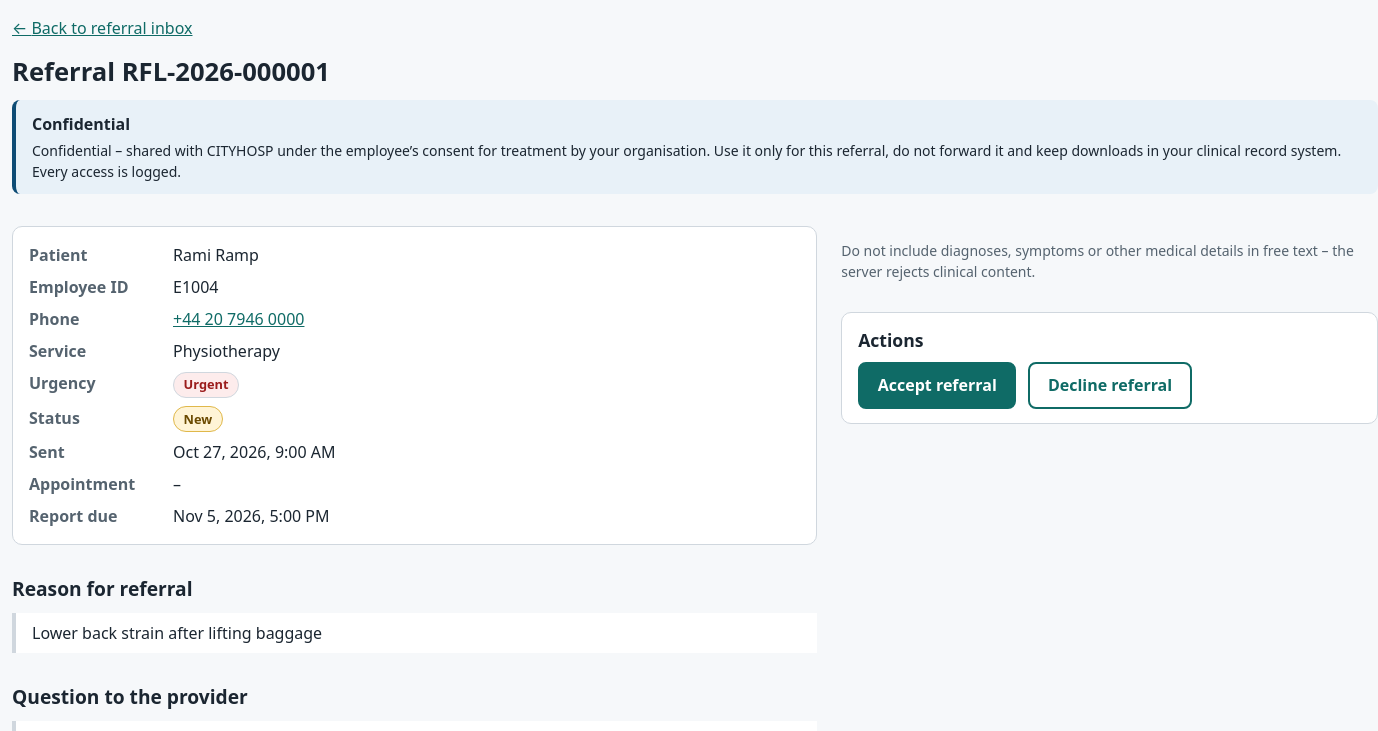
Test: referral detail › requires a reason to decline and posts it
Click the button "Decline referral". click: [1110, 385]
box: [1028,362,1192,409]
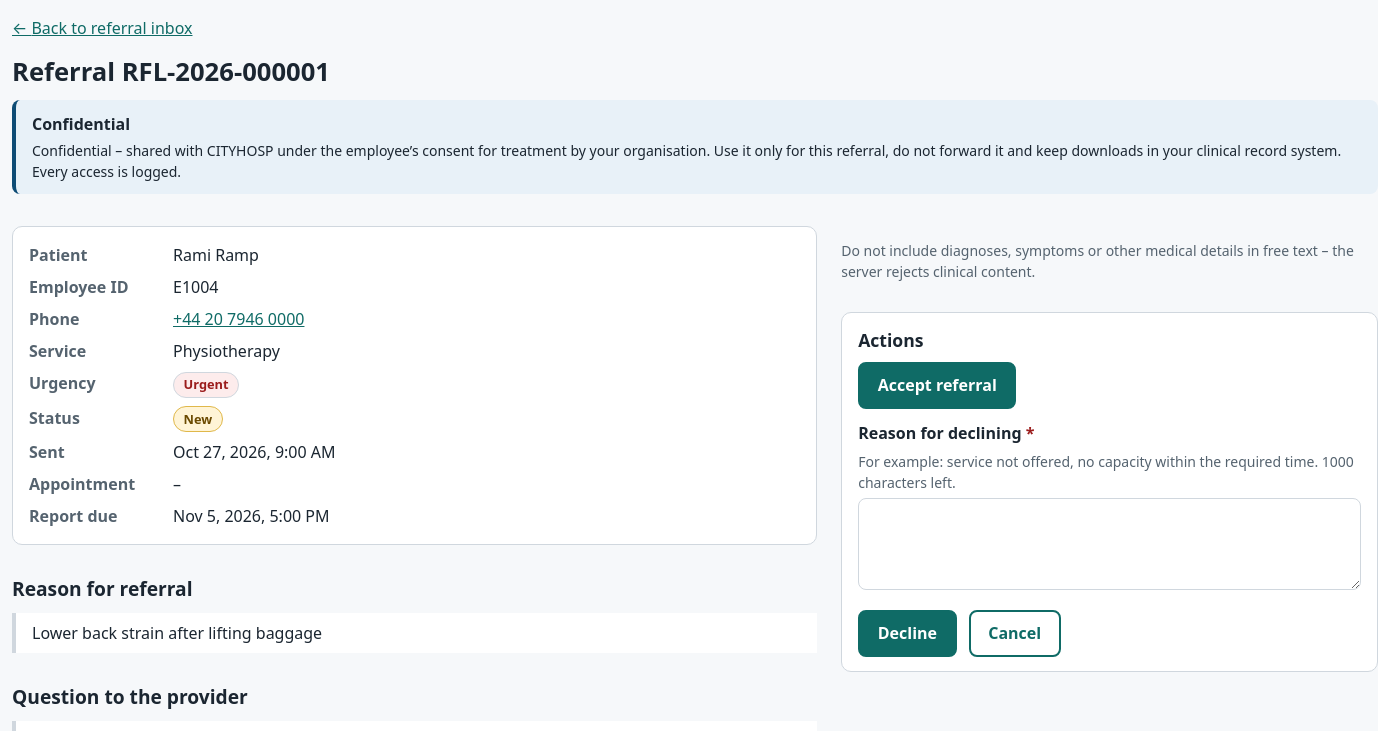
Click the button "Decline". click: [907, 633]
box: [858,610,957,657]
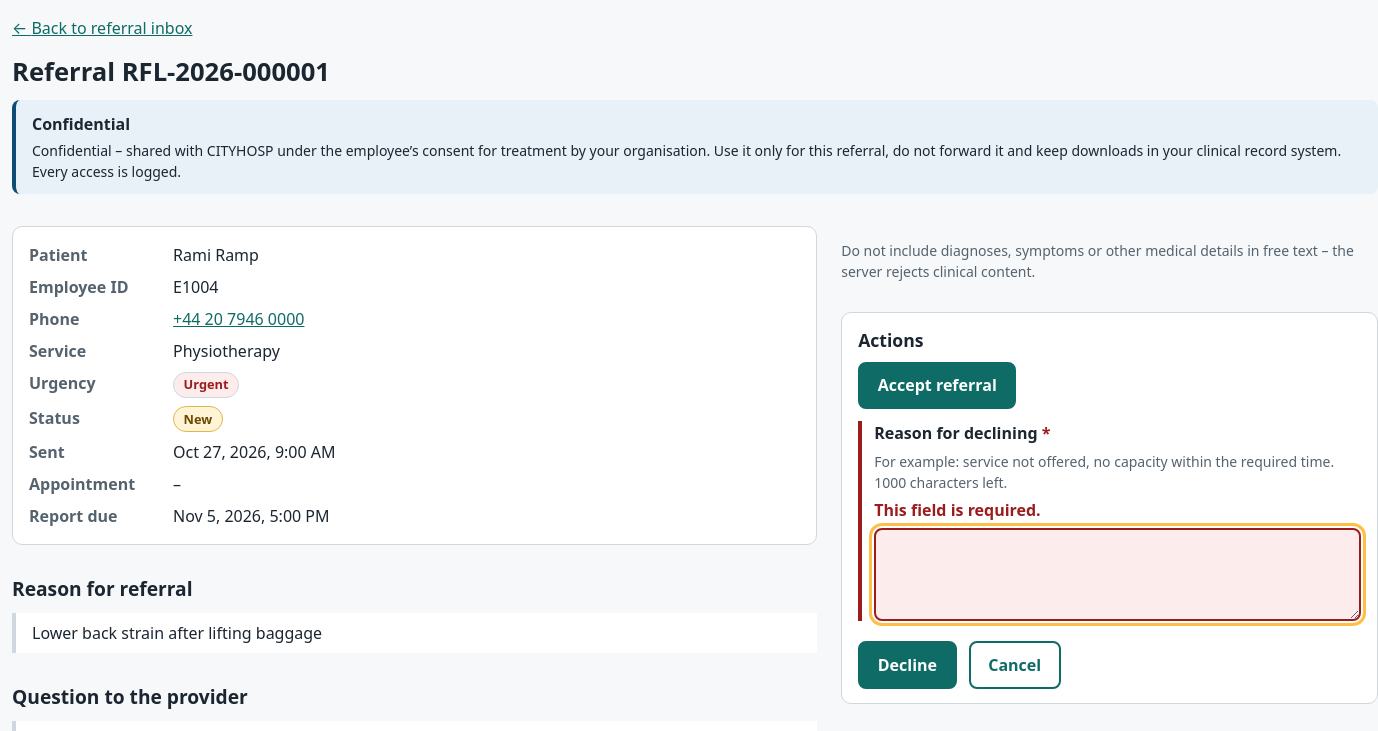
Result: the text box labelled "Reason for declining *" is marked as invalid
Type "No capacity this month" into the text box labelled "Reason for declining *". click: [1118, 574]
box: [874,528,1361,621]
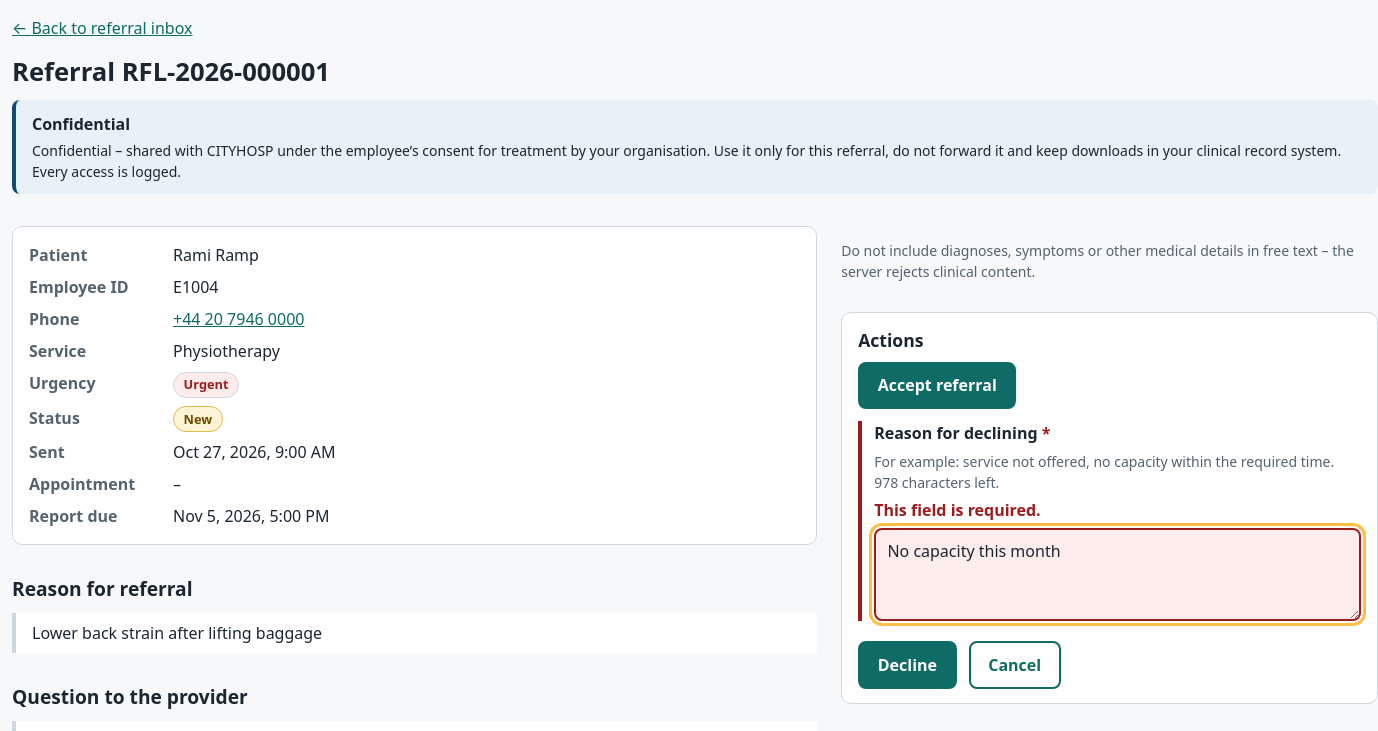
Click the button "Decline". click: [907, 665]
box: [858,641,957,688]
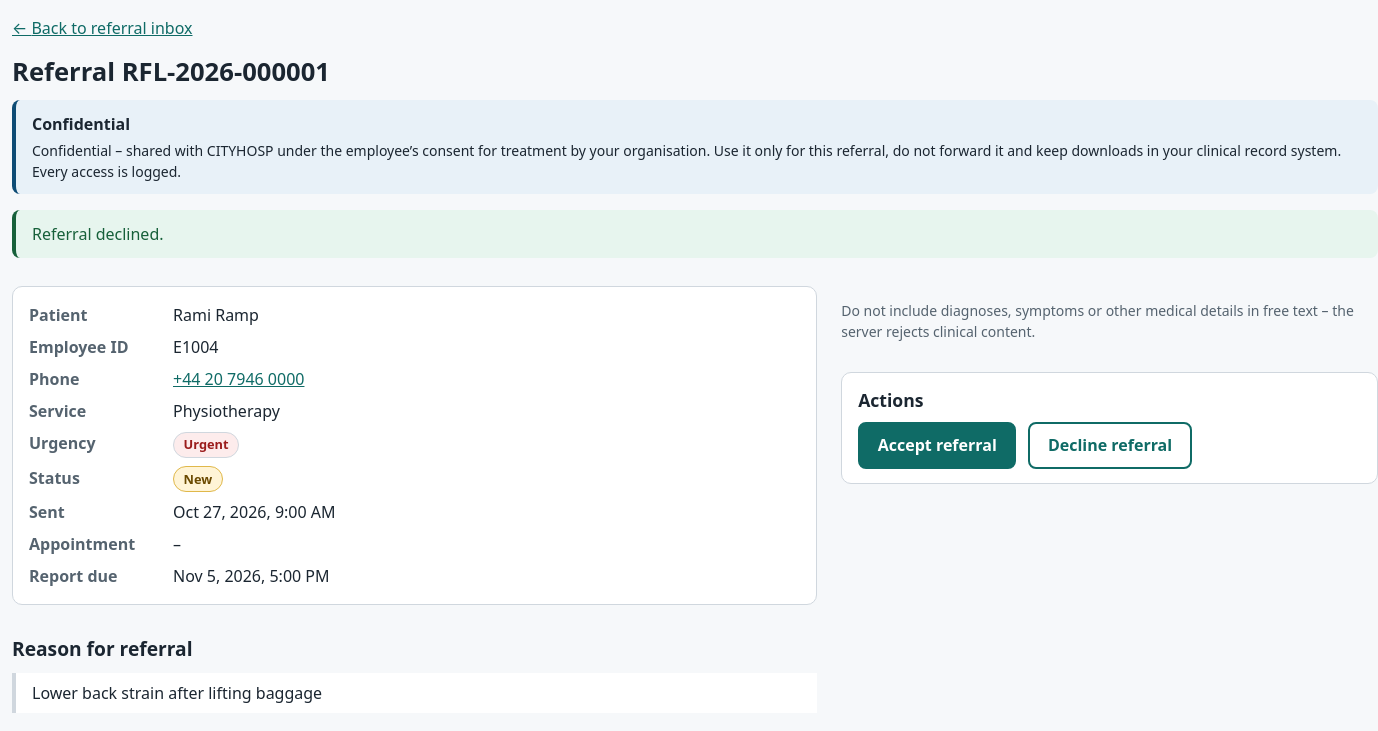
Result: the text "Referral declined." is shown at [12,210,1377,258]
